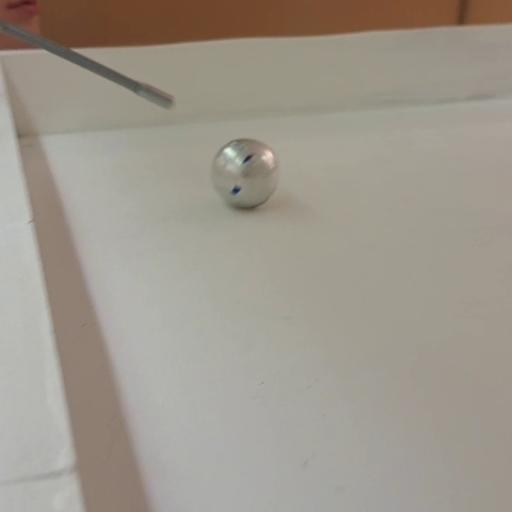alive: (210, 137, 282, 209)
